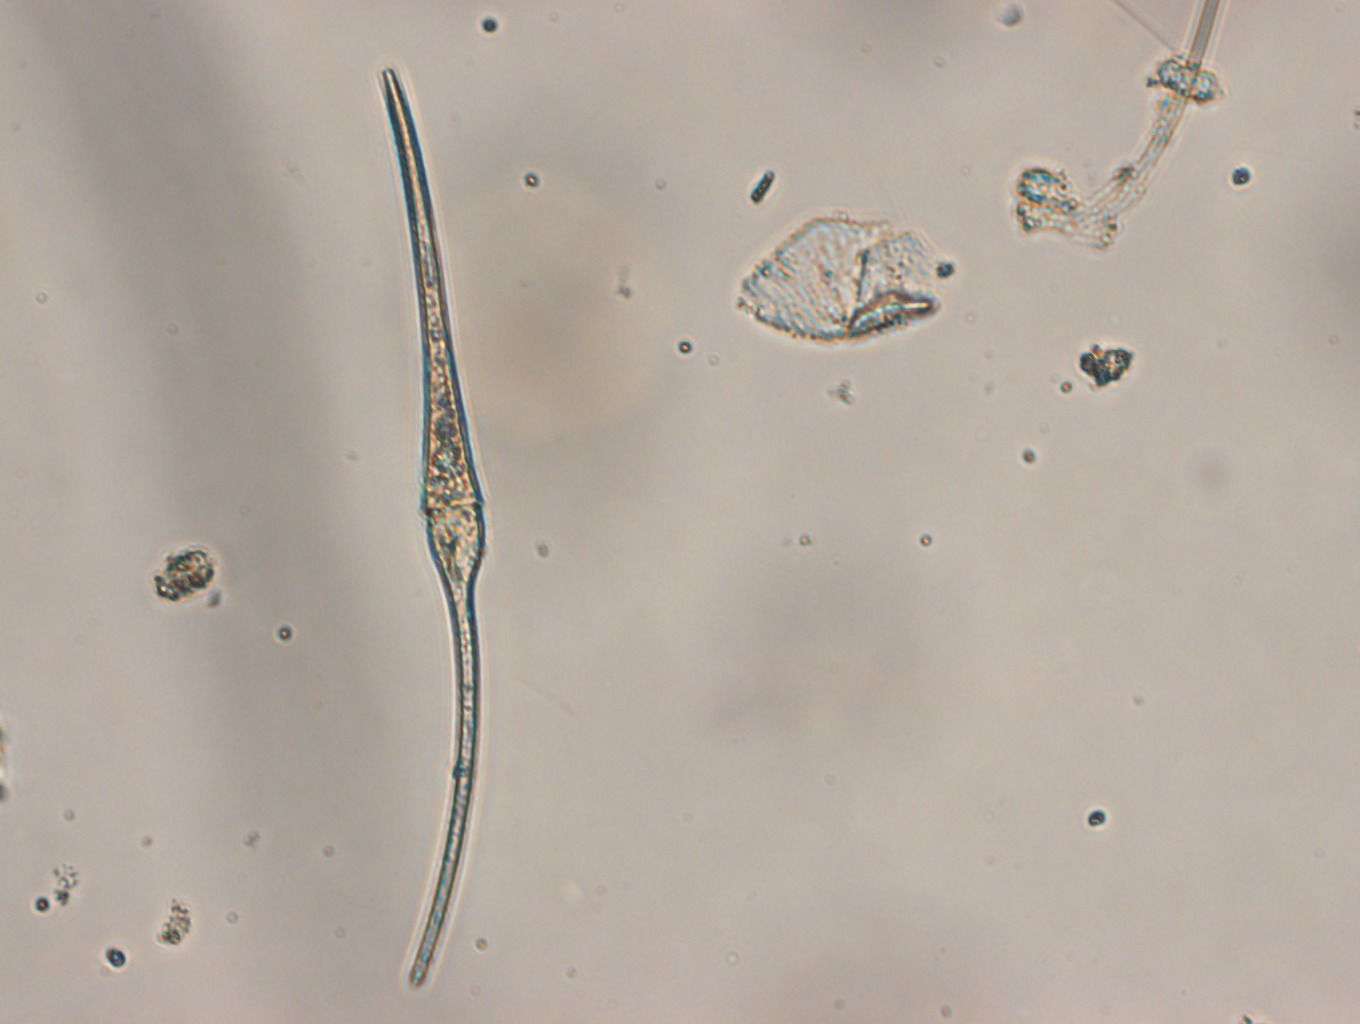ceratium fusus: (380, 62, 486, 991)
